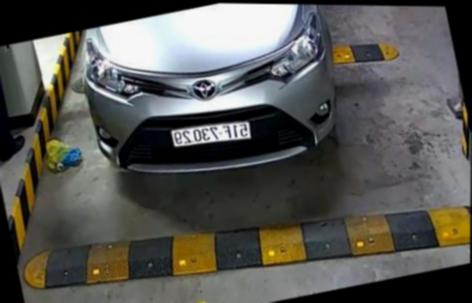License_Plate: (164, 112, 253, 157)
